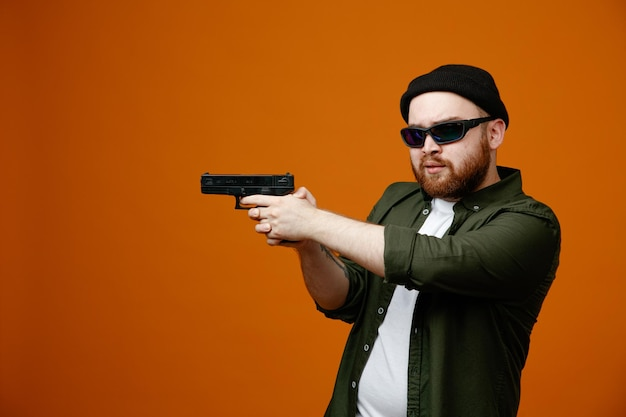gun: (201, 170, 294, 209)
